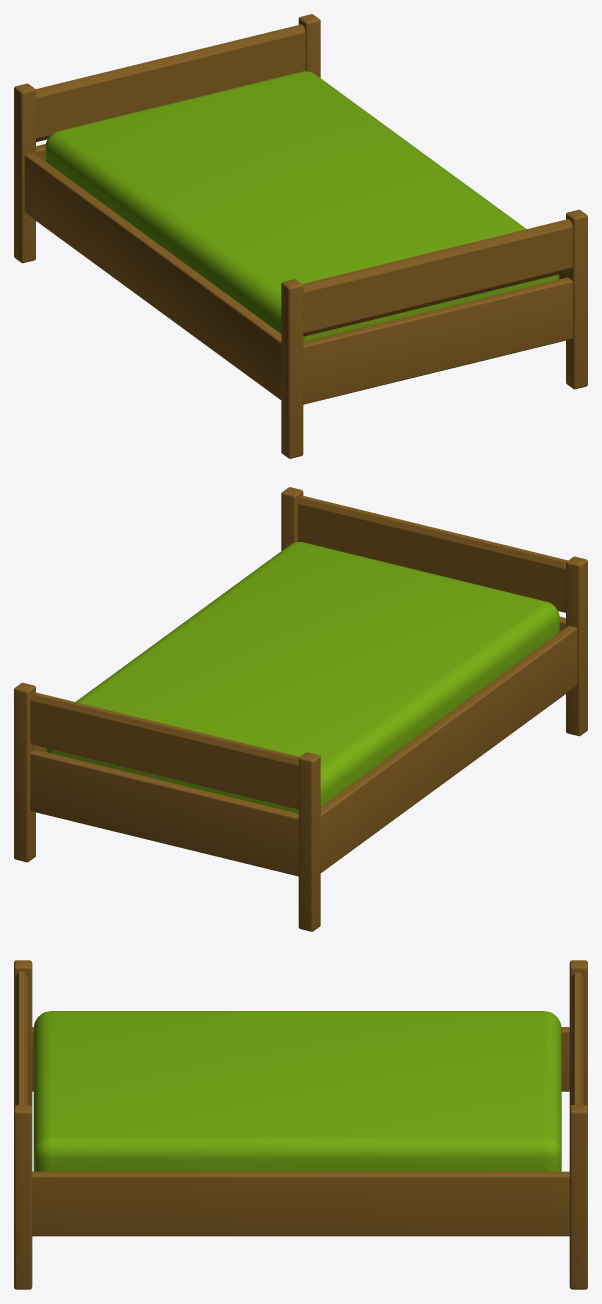
File: Bett.fbx
3 views of the same model, one above another, from view 1: azimuth 30°, elevation 25°; view 2: azimuth 150°, elevation 25°; view 3: azimuth 270°, elevation 25° (orthographic). The views are drawn at different scales.
Visible parts, largest first — view 1: Cube.2; view 2: Cube.2; view 3: Cube.2.
Part boxes in pixels (bbox=[...]): Cube.2: bbox=[14, 14, 587, 458]; Cube.2: bbox=[14, 487, 587, 931]; Cube.2: bbox=[14, 960, 587, 1289].
Size of the model in its own units: 2.45 by 1.34 by 3.91.
